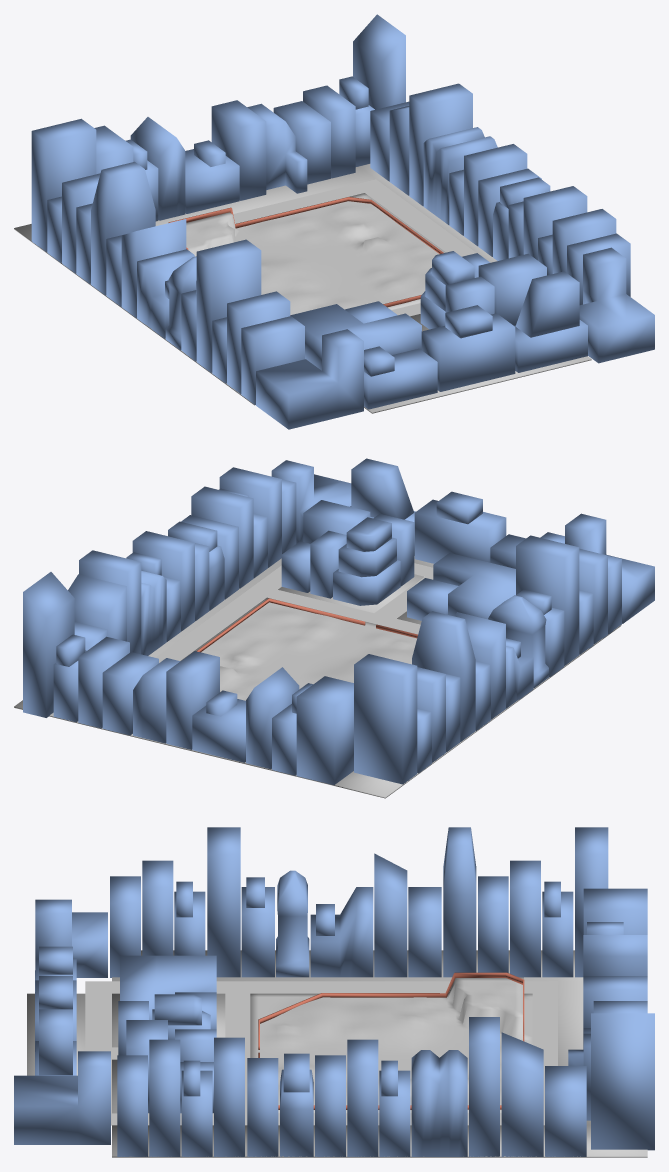
The model's file is ThePark.fbx.
3 renders of one model, top to bottom at view 1: azimuth 30°, elevation 25°; view 2: azimuth 150°, elevation 25°; view 3: azimuth 270°, elevation 25°, orthographic. The views are drawn at different scales.
Parts seen in each view (by area): view 1: Plane_001, Plane, Plane_002; view 2: Plane_001, Plane, Plane_002; view 3: Plane_001, Plane, Plane_002.
Boxes of the visible parts, x1=… form: Plane_001: x1=31, y1=14, x2=654, y2=429; Plane: x1=14, y1=164, x2=591, y2=413; Plane_002: x1=168, y1=197, x2=443, y2=315; Plane_001: x1=23, y1=458, x2=654, y2=785; Plane: x1=14, y1=556, x2=621, y2=798; Plane_002: x1=196, y1=598, x2=417, y2=652; Plane_001: x1=14, y1=827, x2=654, y2=1156; Plane: x1=27, y1=950, x2=647, y2=1157; Plane_002: x1=258, y1=972, x2=524, y2=1109.
Size of the model in its own units: 332 by 104 by 436.
